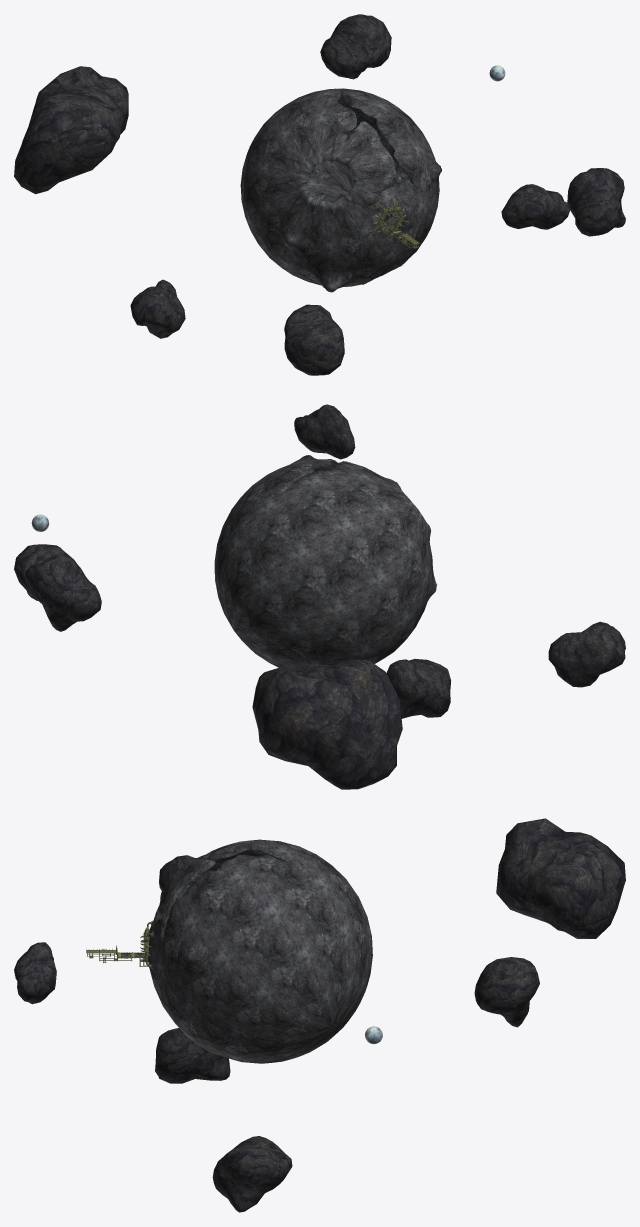
File: stg610_19.obj
3 renders of one model, top to bottom at view 1: azimuth 30°, elevation 25°; view 2: azimuth 150°, elevation 25°; view 3: azimuth 270°, elevation 25°, orthographic. The views are drawn at different scales.
Parts seen in each view (by area): view 1: polygon158, polygon86, polygon81, polygon83, polygon82, polygon84, polygon85; view 2: polygon158, polygon86, polygon83, polygon85, polygon81, polygon84, polygon82; view 3: polygon158, polygon86, polygon82, polygon83, polygon81, polygon84.
Part boxes in pixels (x1=…): polygon158: x1=240, y1=88, x2=441, y2=292; polygon86: x1=14, y1=66, x2=128, y2=194; polygon81: x1=284, y1=304, x2=344, y2=375; polygon83: x1=320, y1=14, x2=391, y2=79; polygon82: x1=567, y1=168, x2=625, y2=236; polygon84: x1=501, y1=184, x2=570, y2=229; polygon85: x1=130, y1=279, x2=185, y2=338; polygon158: x1=214, y1=455, x2=436, y2=670; polygon86: x1=252, y1=659, x2=402, y2=789; polygon83: x1=25, y1=554, x2=101, y2=631; polygon85: x1=548, y1=621, x2=625, y2=687; polygon81: x1=386, y1=659, x2=450, y2=718; polygon84: x1=294, y1=404, x2=355, y2=459; polygon82: x1=14, y1=544, x2=75, y2=600; polygon158: x1=148, y1=839, x2=372, y2=1063; polygon86: x1=496, y1=818, x2=625, y2=938; polygon82: x1=212, y1=1136, x2=292, y2=1212; polygon83: x1=474, y1=957, x2=539, y2=1027; polygon81: x1=155, y1=1028, x2=230, y2=1083; polygon84: x1=14, y1=942, x2=56, y2=1004.
Bounding box in the file's own units: 12002 × 5201 × 10910.
Materials: 27 (27 with a texture image).
